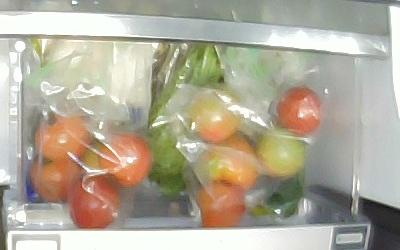tomato_vinyl: (200, 131, 259, 193), (99, 132, 152, 189), (68, 174, 120, 228), (188, 90, 239, 144), (33, 114, 92, 160), (28, 154, 83, 202), (257, 128, 304, 178), (196, 181, 246, 227), (277, 86, 321, 136), (84, 144, 120, 188)
